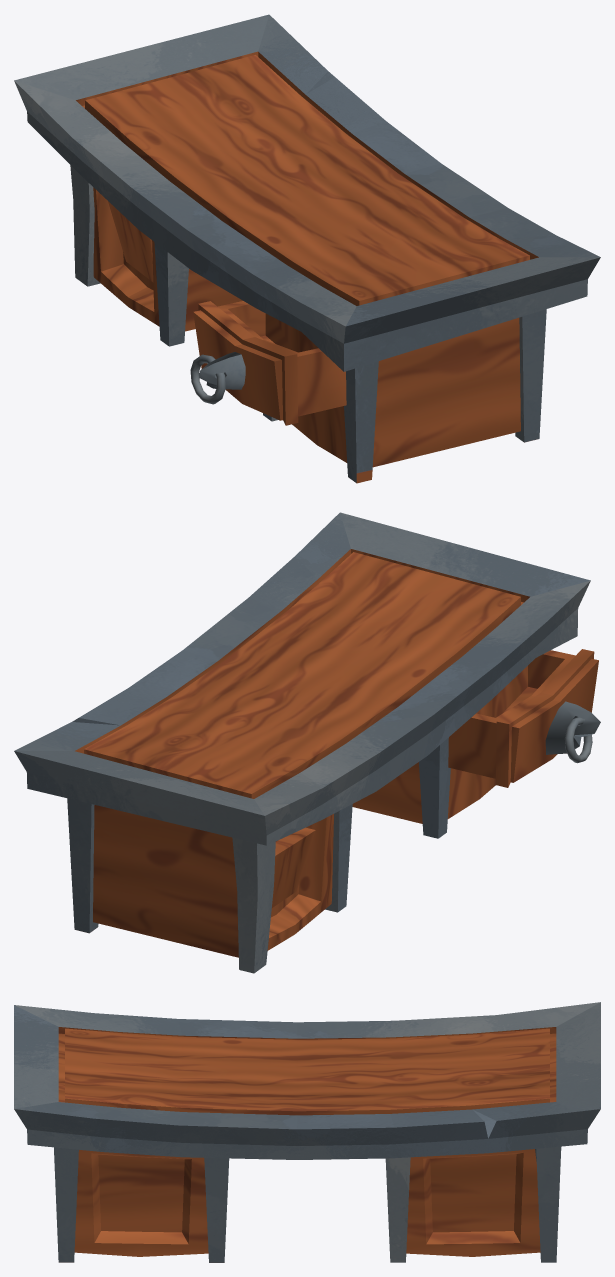
The model's file is SM_Desk.fbx.
The picture shows the model from 3 angles, top to bottom: view 1: azimuth 30°, elevation 25°; view 2: azimuth 150°, elevation 25°; view 3: azimuth 270°, elevation 25°; orthographic projection. The views are drawn at different scales.
Visible parts, largest first — view 1: SM_Desk; view 2: SM_Desk; view 3: SM_Desk.
Boxes of the visible parts, left/top/right/bottom form: SM_Desk: left=14, top=14, right=600, bottom=483; SM_Desk: left=14, top=512, right=600, bottom=973; SM_Desk: left=14, top=1002, right=600, bottom=1262.
Bounding box in the file's own units: 110 × 60.13 × 189.
